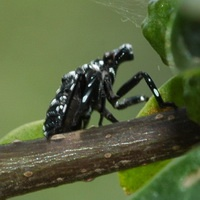insect: (44, 43, 175, 139)
